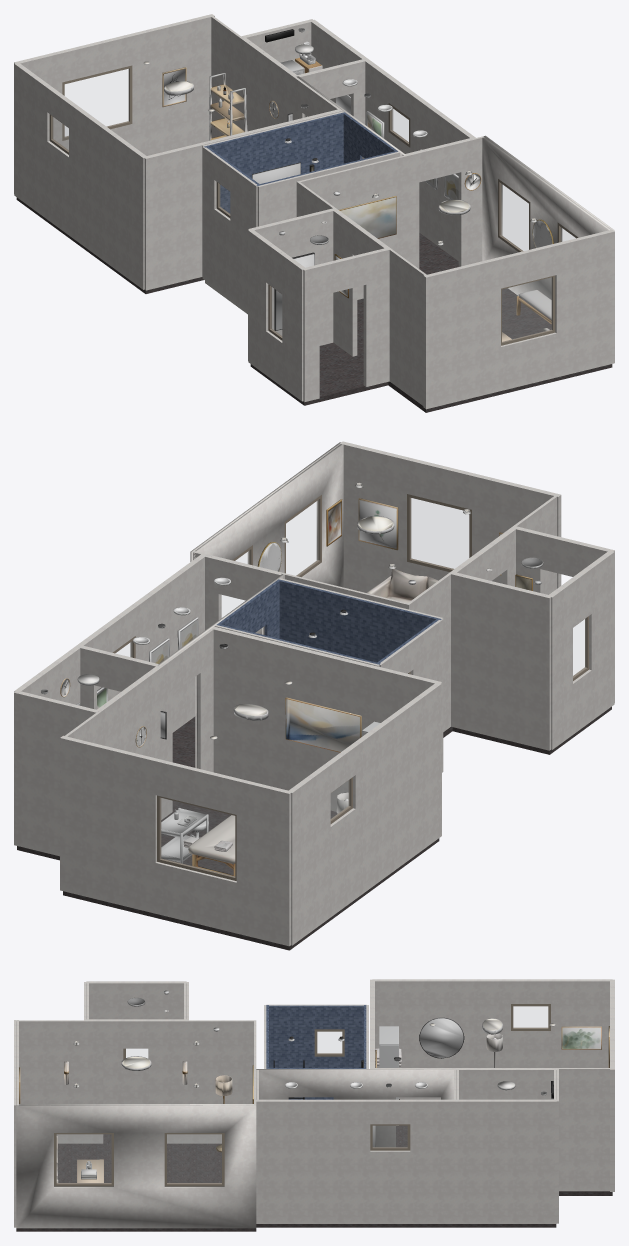
File: scene_named.glb
3 renders of one model, top to bottom at view 1: azimuth 30°, elevation 25°; view 2: azimuth 150°, elevation 25°; view 3: azimuth 270°, elevation 25°, orthographic. The views are drawn at different scales.
Parts seen in each view (by area): view 1: south_wall_exterior_waiting_area/south_wall_exterior_waiting, west_wall_exterior_treatment_room/west_wall_exterior_treatme, north_wall_treatment_room/north_wall_treatment_room/geometry, north_wall_waiting_area/north_wall_waiting_area/geometry_0, south_wall_exterior_treatment_room/south_wall_exterior_treat, south_wall_exterior_entry_vestibule/south_wall_exterior_entr, west_wall_exterior_entry_vestibule/west_wall_exterior_entry_, east_wall_treatment_room/east_wall_treatment_room/geometry_0, west_wall_exterior_bathroom/west_wall_exterior_bathroom/geom, east_wall_waiting_area/east_wall_waiting_area/geometry_0, east_wall_hallway/east_wall_hallway/geometry_0, west_wall_waiting_area/west_wall_waiting_area/geometry_0 (+24 smaller); view 2: north_wall_exterior_treatment_room/north_wall_exterior_treat, west_wall_exterior_treatment_room/west_wall_exterior_treatme, south_wall_treatment_room/south_wall_treatment_room/geometry, north_wall_exterior_entry_vestibule/north_wall_exterior_entr, south_wall_waiting_area/south_wall_waiting_area/geometry_0, west_wall_exterior_entry_vestibule/west_wall_exterior_entry_, east_wall_treatment_room/east_wall_treatment_room/geometry_0, north_wall_exterior_linen_closet/north_wall_exterior_linen_c, south_wall_bathroom/south_wall_bathroom/geometry_0, east_wall_waiting_area/east_wall_waiting_area/geometry_0, east_wall_hallway/east_wall_hallway/geometry_0, window_5_treatment_room/window_5_treatment_room/glass (+22 smaller); view 3: east_wall_exterior_hallway/east_wall_exterior_hallway/geomet, east_wall_exterior_waiting_area/east_wall_exterior_waiting_a, west_wall_waiting_area/west_wall_waiting_area/geometry_0, west_wall_treatment_room/west_wall_treatment_room/geometry_0, east_wall_exterior_linen_closet/east_wall_exterior_linen_clo, east_wall_treatment_room/east_wall_treatment_room/geometry_0, west_wall_hallway/west_wall_hallway/geometry_0, west_wall_entry_vestibule/west_wall_entry_vestibule/geometry, west_wall_bathroom/west_wall_bathroom/geometry_0, floor_waiting_area, west_wall_linen_closet/west_wall_linen_closet/geometry_0, window_2_waiting_area/window_2_waiting_area/glass (+25 smaller).
Boxes of the visible parts, bbox=[...] form: south_wall_exterior_waiting_area/south_wall_exterior_waiting: bbox=[424, 230, 614, 409]; west_wall_exterior_treatment_room/west_wall_exterior_treatme: bbox=[14, 63, 144, 289]; north_wall_treatment_room/north_wall_treatment_room/geometry: bbox=[16, 15, 214, 155]; north_wall_waiting_area/north_wall_waiting_area/geometry_0: bbox=[297, 136, 484, 299]; south_wall_exterior_treatment_room/south_wall_exterior_treat: bbox=[144, 110, 342, 290]; south_wall_exterior_entry_vestibule/south_wall_exterior_entr: bbox=[303, 248, 390, 402]; west_wall_exterior_entry_vestibule/west_wall_exterior_entry_: bbox=[248, 230, 303, 401]; east_wall_treatment_room/east_wall_treatment_room/geometry_0: bbox=[211, 16, 339, 137]; west_wall_exterior_bathroom/west_wall_exterior_bathroom/geom: bbox=[202, 146, 257, 311]; east_wall_waiting_area/east_wall_waiting_area/geometry_0: bbox=[482, 137, 610, 299]; east_wall_hallway/east_wall_hallway/geometry_0: bbox=[364, 60, 473, 260]; west_wall_waiting_area/west_wall_waiting_area/geometry_0: bbox=[296, 182, 426, 405]; north_wall_exterior_treatment_room/north_wall_exterior_treat: bbox=[60, 737, 290, 946]; west_wall_exterior_treatment_room/west_wall_exterior_treatme: bbox=[291, 683, 441, 945]; south_wall_treatment_room/south_wall_treatment_room/geometry: bbox=[211, 627, 439, 811]; north_wall_exterior_entry_vestibule/north_wall_exterior_entr: bbox=[450, 572, 550, 750]; south_wall_waiting_area/south_wall_waiting_area/geometry_0: bbox=[340, 442, 559, 592]; west_wall_exterior_entry_vestibule/west_wall_exterior_entry_: bbox=[550, 551, 614, 749]; east_wall_treatment_room/east_wall_treatment_room/geometry_0: bbox=[65, 629, 213, 819]; north_wall_exterior_linen_closet/north_wall_exterior_linen_c: bbox=[14, 691, 98, 856]; south_wall_bathroom/south_wall_bathroom/geometry_0: bbox=[277, 579, 441, 662]; east_wall_waiting_area/east_wall_waiting_area/geometry_0: bbox=[193, 444, 343, 634]; east_wall_hallway/east_wall_hallway/geometry_0: bbox=[79, 555, 205, 732]; window_5_treatment_room/window_5_treatment_room/glass: bbox=[160, 798, 234, 876]; east_wall_exterior_hallway/east_wall_exterior_hallway/geomet: bbox=[256, 1100, 456, 1223]; east_wall_exterior_waiting_area/east_wall_exterior_waiting_a: bbox=[16, 1105, 256, 1228]; west_wall_waiting_area/west_wall_waiting_area/geometry_0: bbox=[16, 1020, 253, 1143]; west_wall_treatment_room/west_wall_treatment_room/geometry_0: bbox=[375, 980, 609, 1099]; east_wall_exterior_linen_closet/east_wall_exterior_linen_clo: bbox=[456, 1100, 556, 1223]; east_wall_treatment_room/east_wall_treatment_room/geometry_0: bbox=[375, 1068, 609, 1191]; west_wall_hallway/west_wall_hallway/geometry_0: bbox=[256, 1069, 456, 1147]; west_wall_entry_vestibule/west_wall_entry_vestibule/geometry: bbox=[86, 982, 186, 1103]; west_wall_bathroom/west_wall_bathroom/geometry_0: bbox=[269, 1005, 363, 1099]; floor_waiting_area: bbox=[16, 1142, 256, 1231]; west_wall_linen_closet/west_wall_linen_closet/geometry_0: bbox=[456, 1069, 556, 1099]; window_2_waiting_area/window_2_waiting_area/glass: bbox=[167, 1134, 221, 1183].
Bounding box in the file's own units: 6 × 2.8 × 12.02.
Materials: 113 (100 with a texture image).
